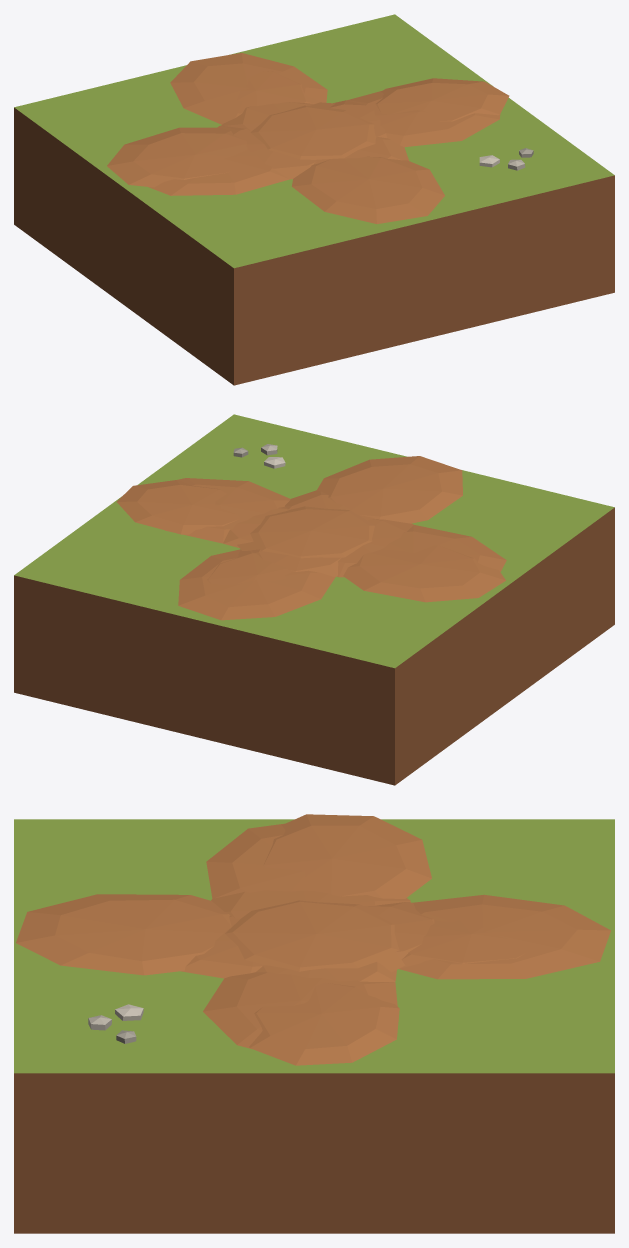
The model's file is tile_dirt_crossroad.glb.
3 renders of one model, top to bottom at view 1: azimuth 30°, elevation 25°; view 2: azimuth 150°, elevation 25°; view 3: azimuth 270°, elevation 25°, orthographic. The views are drawn at different scales.
Visible parts, largest first — view 1: dirt_cross_body, dirt_cross_cap, dirt_cross_a_0, dirt_cross_b_0, dirt_cross_a_5, dirt_cross_mid, dirt_cross_b_5, dirt_cross_b_4, dirt_cross_b_1, dirt_cross_a_4, dirt_cross_b_2, dirt_cross_a_3 (+2 smaller); view 2: dirt_cross_body, dirt_cross_cap, dirt_cross_a_0, dirt_cross_b_0, dirt_cross_a_5, dirt_cross_mid, dirt_cross_b_5, dirt_cross_b_4, dirt_cross_b_1, dirt_cross_a_4, dirt_cross_b_2, dirt_cross_a_3 (+2 smaller); view 3: dirt_cross_cap, dirt_cross_body, dirt_cross_a_0, dirt_cross_b_0, dirt_cross_a_5, dirt_cross_mid, dirt_cross_b_5, dirt_cross_b_4, dirt_cross_b_1, dirt_cross_a_4, dirt_cross_b_2, dirt_cross_a_2 (+2 smaller).
Boxes of the visible parts, x1=… form: dirt_cross_body: x1=14, y1=120, x2=614, y2=385; dirt_cross_cap: x1=14, y1=14, x2=614, y2=280; dirt_cross_a_0: x1=292, y1=156, x2=444, y2=223; dirt_cross_b_0: x1=107, y1=127, x2=247, y2=187; dirt_cross_a_5: x1=170, y1=53, x2=327, y2=124; dirt_cross_mid: x1=250, y1=102, x2=376, y2=159; dirt_cross_b_5: x1=375, y1=78, x2=509, y2=121; dirt_cross_b_4: x1=347, y1=90, x2=500, y2=147; dirt_cross_b_1: x1=148, y1=149, x2=288, y2=195; dirt_cross_a_4: x1=236, y1=71, x2=322, y2=107; dirt_cross_b_2: x1=217, y1=125, x2=316, y2=179; dirt_cross_a_3: x1=222, y1=102, x2=314, y2=131; dirt_cross_body: x1=14, y1=520, x2=614, y2=785; dirt_cross_cap: x1=14, y1=414, x2=614, y2=680; dirt_cross_a_0: x1=316, y1=456, x2=462, y2=523; dirt_cross_b_0: x1=343, y1=545, x2=505, y2=602; dirt_cross_a_5: x1=178, y1=549, x2=335, y2=620; dirt_cross_mid: x1=237, y1=506, x2=374, y2=558; dirt_cross_b_5: x1=117, y1=480, x2=239, y2=534; dirt_cross_b_4: x1=165, y1=478, x2=290, y2=543; dirt_cross_b_1: x1=381, y1=525, x2=506, y2=571; dirt_cross_a_4: x1=207, y1=550, x2=293, y2=584; dirt_cross_b_2: x1=337, y1=519, x2=413, y2=577; dirt_cross_a_3: x1=251, y1=549, x2=340, y2=576; dirt_cross_cap: x1=14, y1=819, x2=614, y2=1090; dirt_cross_body: x1=14, y1=1091, x2=614, y2=1233; dirt_cross_a_0: x1=16, y1=894, x2=231, y2=975; dirt_cross_b_0: x1=263, y1=814, x2=431, y2=898; dirt_cross_a_5: x1=399, y1=894, x2=610, y2=979; dirt_cross_mid: x1=225, y1=900, x2=405, y2=972; dirt_cross_b_5: x1=249, y1=982, x2=399, y2=1065; dirt_cross_b_4: x1=203, y1=972, x2=398, y2=1049; dirt_cross_b_1: x1=206, y1=823, x2=313, y2=898; dirt_cross_a_4: x1=399, y1=919, x2=525, y2=968; dirt_cross_b_2: x1=211, y1=890, x2=410, y2=918; dirt_cross_a_2: x1=181, y1=916, x2=262, y2=978.
Bounding box in the file's own units: 1.7 × 0.5444 × 1.7.
